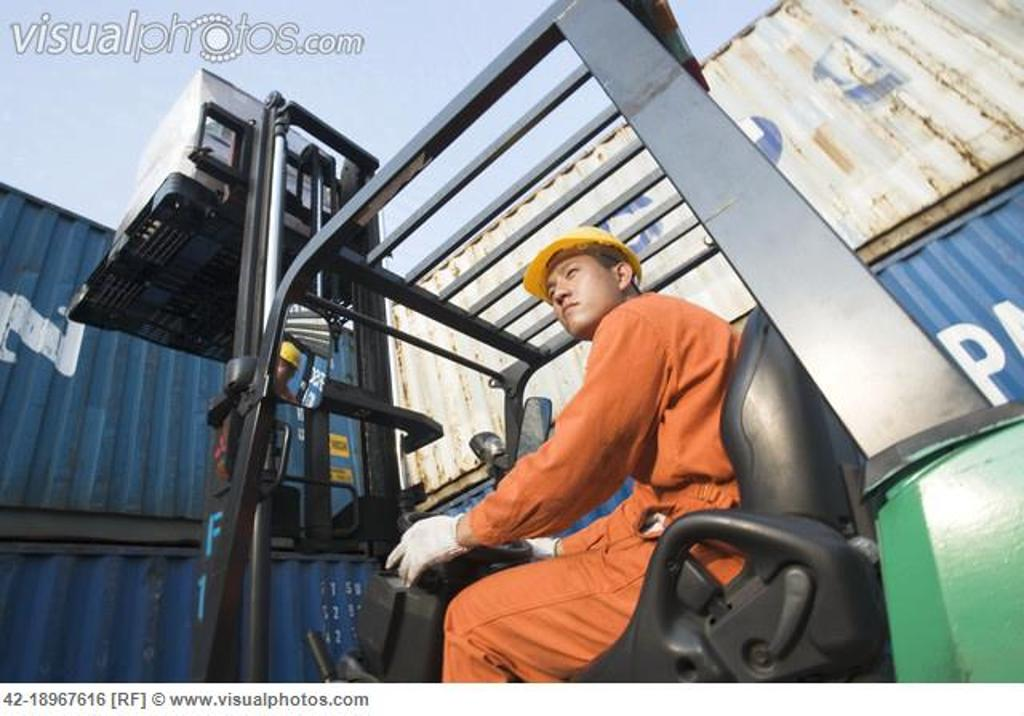face: (550, 242, 612, 328)
